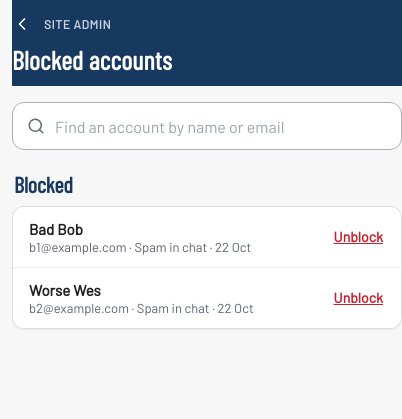
Test case: BlockedAccountsPage › unblocks straight away, and shows a refusal
This screenshot has width=402, height=419.
Click the button with aria-label "Unblock Bad Bob": (358, 238) left=330, top=216, right=387, bottom=260
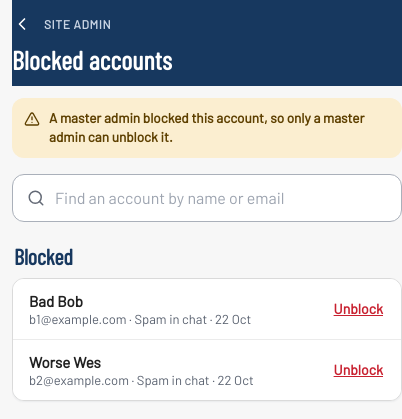
Result: the message shows "only a master admin can unblock it" at left=49, top=109, right=364, bottom=145
Click the button with aria-label "Unblock Worse Wes": (358, 370) left=330, top=348, right=387, bottom=392
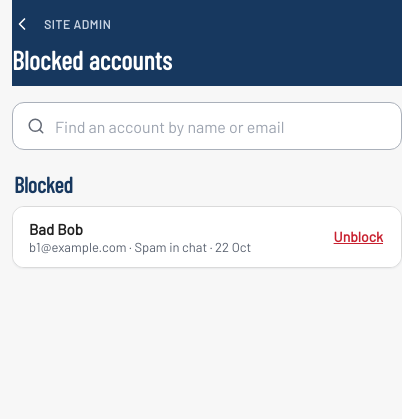
Expected: the text "Bad Bob" is shown, left=29, top=220, right=83, bottom=238
Result: the text "Worse Wes" is gone
